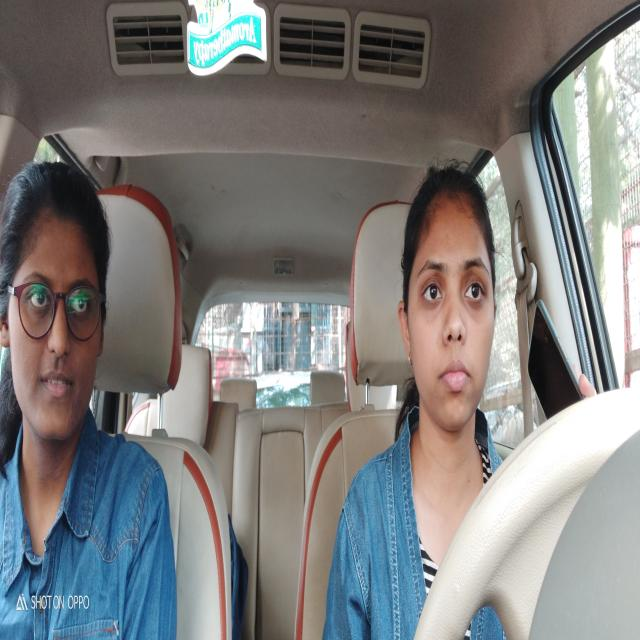mobile: (526, 298, 588, 427)
person: (0, 162, 121, 454), (397, 165, 500, 436)
